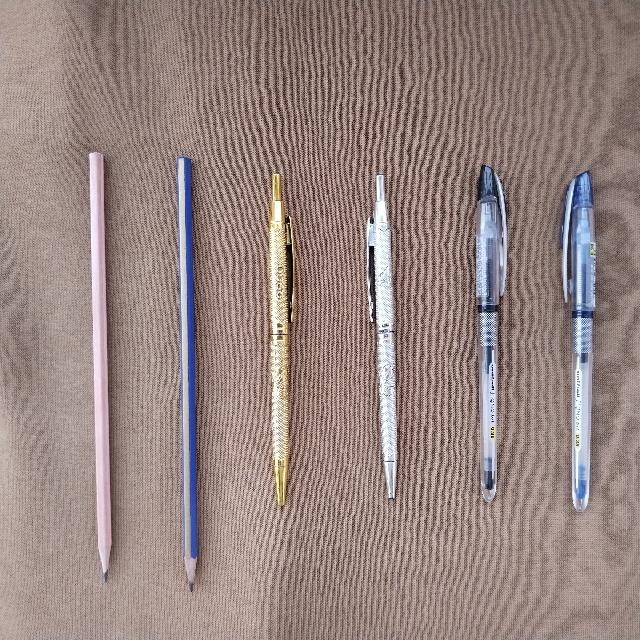pen: (561, 171, 595, 511), (476, 165, 506, 501)
pencil: (89, 152, 111, 580), (177, 156, 197, 589)
signature pen: (367, 175, 396, 497), (268, 174, 293, 505)
